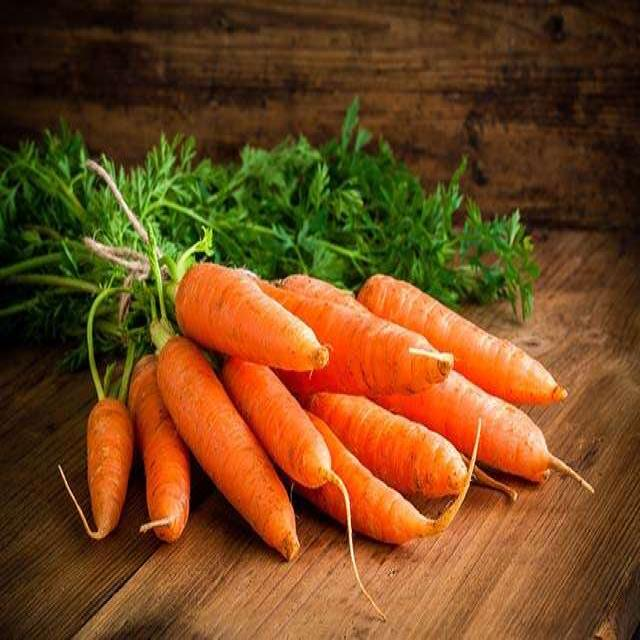Fresh_Carrot: (150, 342, 293, 540), (356, 264, 558, 394), (179, 255, 309, 352), (82, 394, 131, 554)
